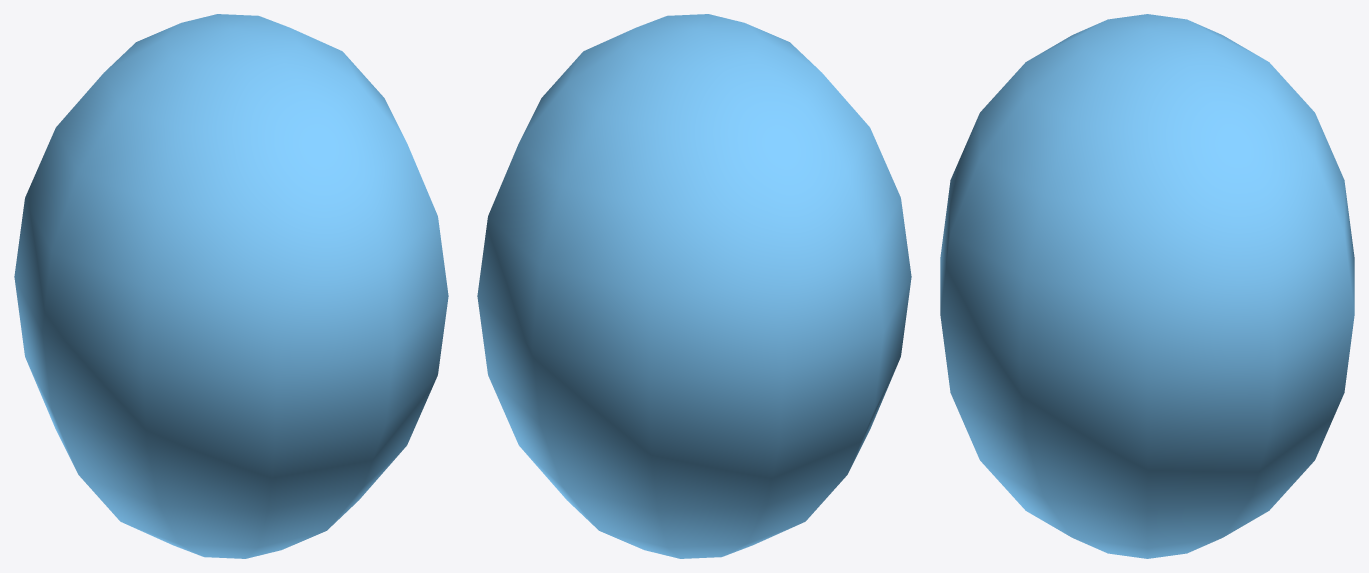
The model's file is glaurina_stage2.obj.
The picture shows the model from 3 angles, left to right: view 1: azimuth 30°, elevation 25°; view 2: azimuth 150°, elevation 25°; view 3: azimuth 270°, elevation 25°; orthographic projection.
Bounding box in the file's own units: 2 × 2.6 × 1.9.
